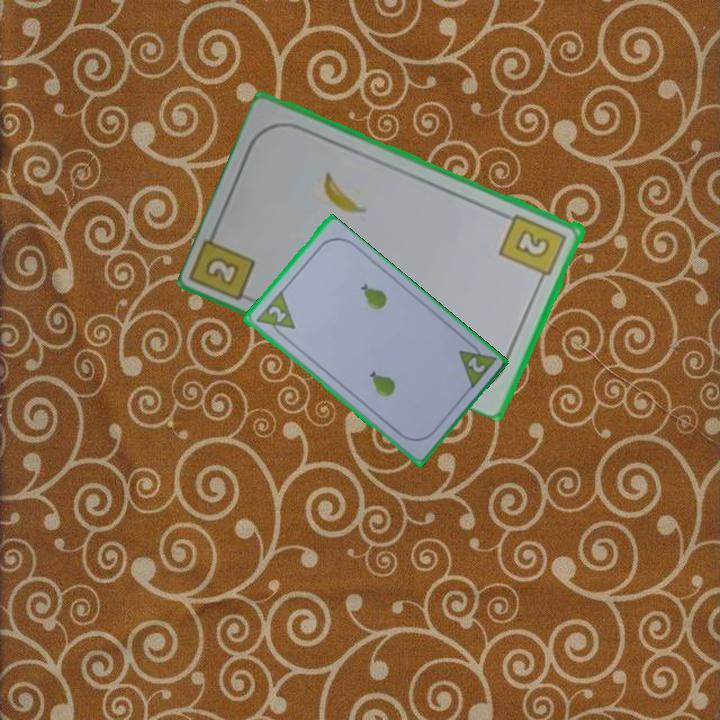2b: (496, 210, 570, 286), (205, 256, 239, 285)
2p: (454, 336, 499, 392), (264, 302, 289, 325)
